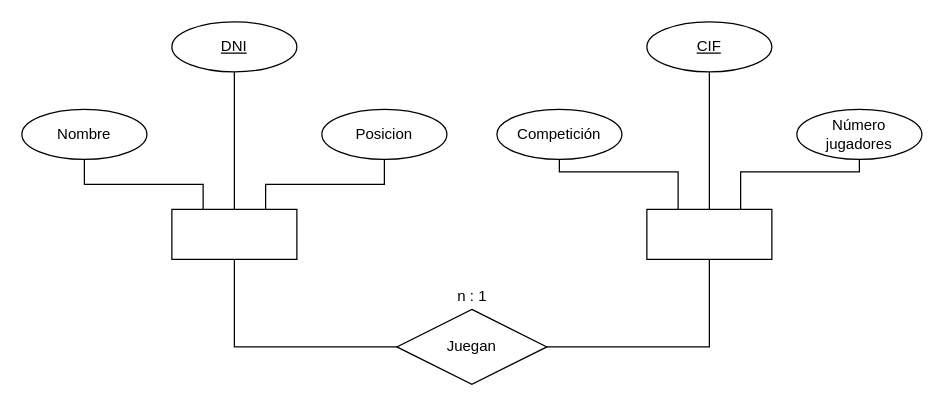
The diagram is 944 pixels wide and 406 high, and some of its shapes have lost their labels. The shapes that lost their labels are listed below. From the top down, each one's centre as x and y in pixels, then its label:
(x=234, y=233): Jugadores
(x=709, y=233): Equipo
